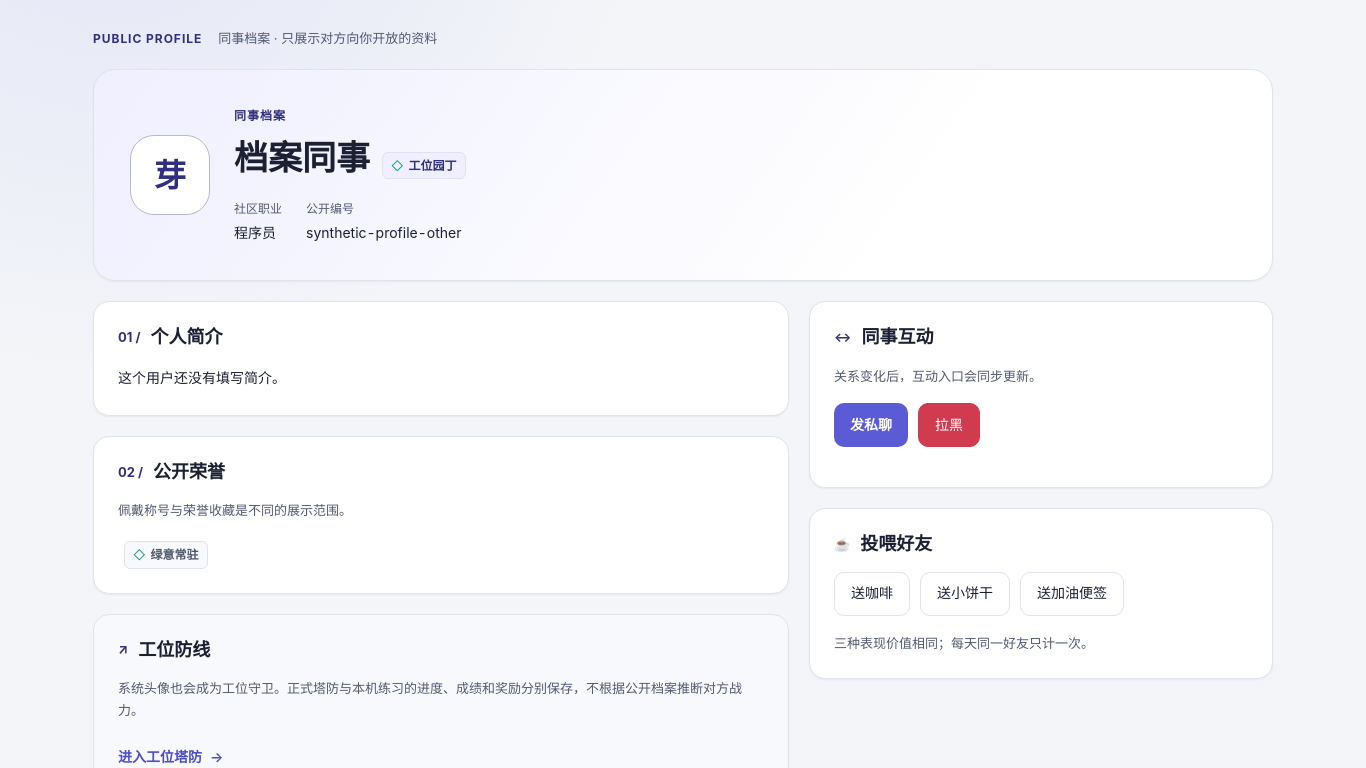
Test case: public profile title privacy projection › clears the old title, honors and friend actions after blocking even when the refreshed profile is unavailable
Expected: the element named "佩戴称号：工位园丁" is shown, x1=382 y1=152 x2=466 y2=179
Expected: the element named "称号：绿意常驻" is shown, x1=124 y1=541 x2=208 y2=569
Click the button "拉黑" at (949, 425), box x1=918 y1=403 x2=980 y2=447
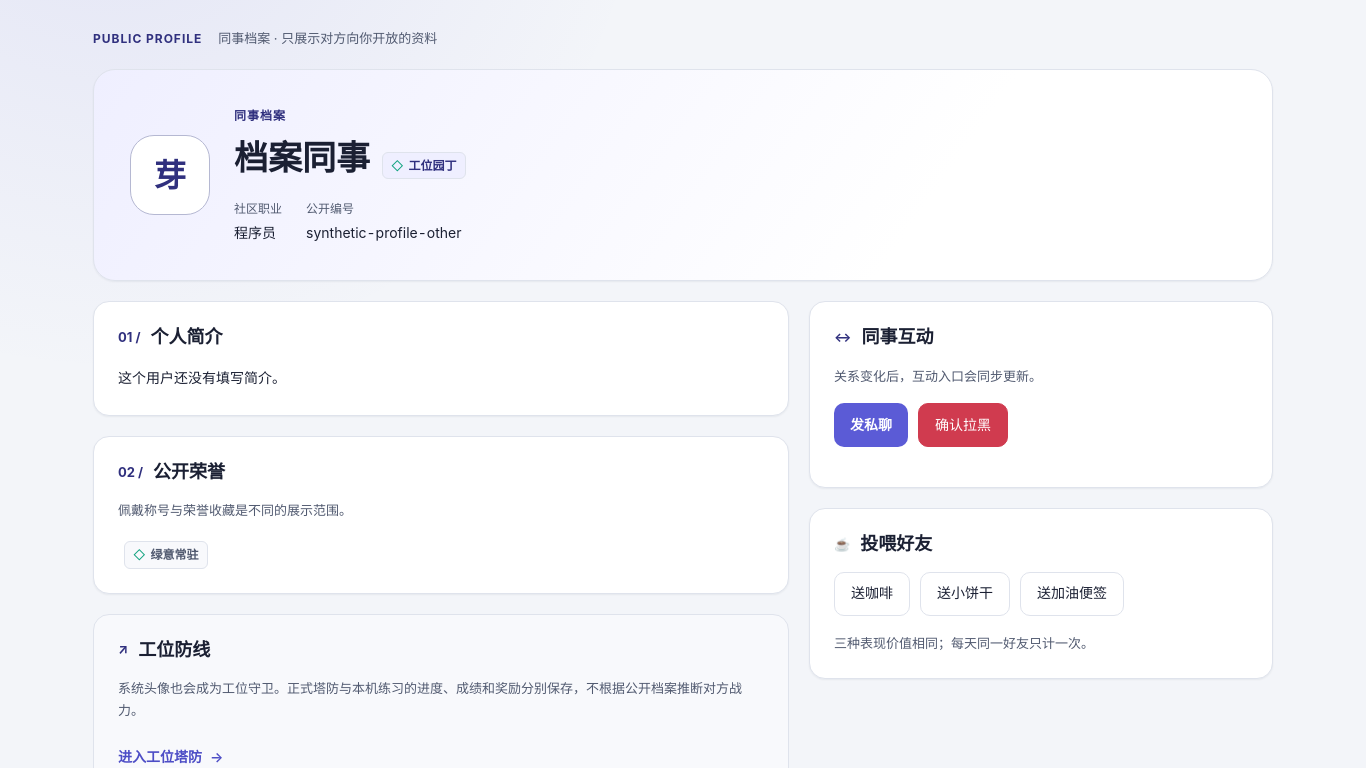
Click the button "确认拉黑" at (963, 425), box x1=918 y1=403 x2=1008 y2=447
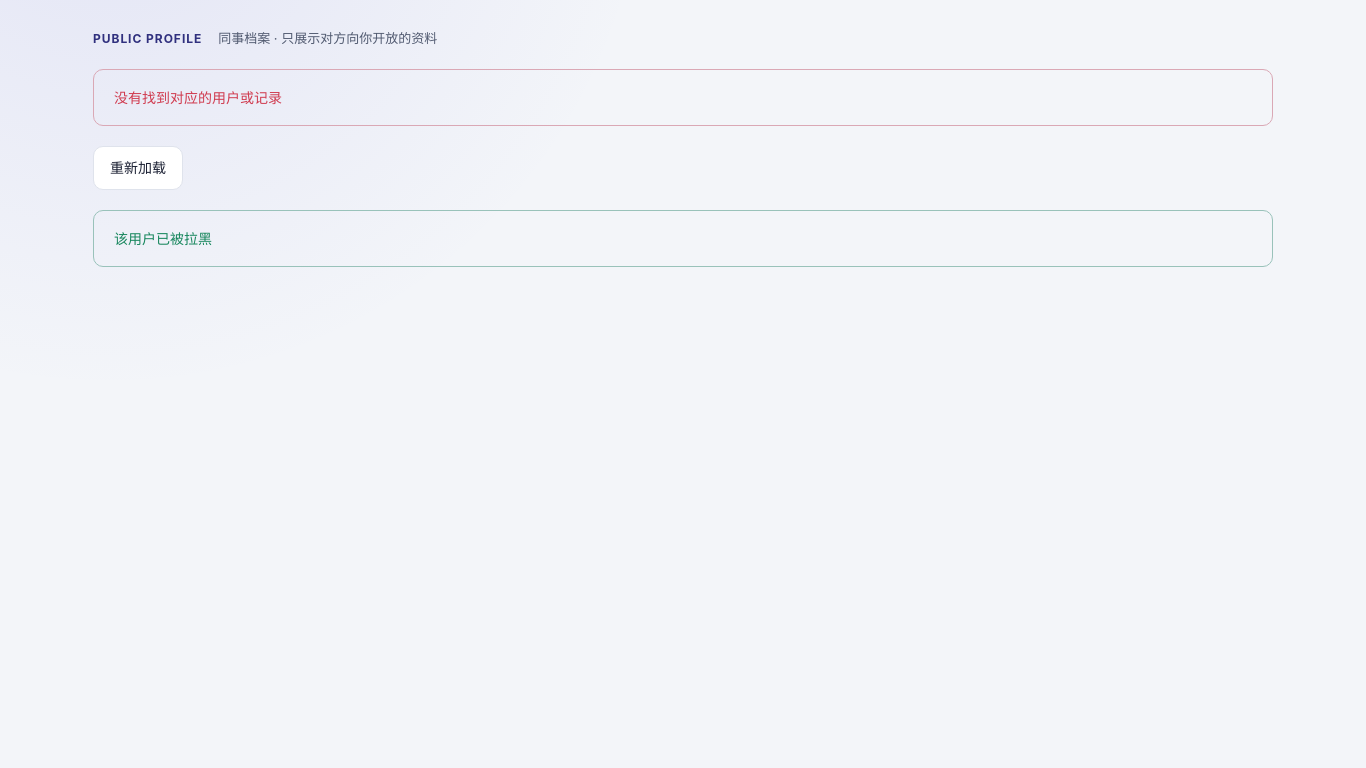
Now the field labelled "称号：绿意常驻" is gone
Now the button "送咖啡" is gone
Now the message "没有找到对应的用户或记录" is shown, box x1=93 y1=69 x2=1273 y2=126
